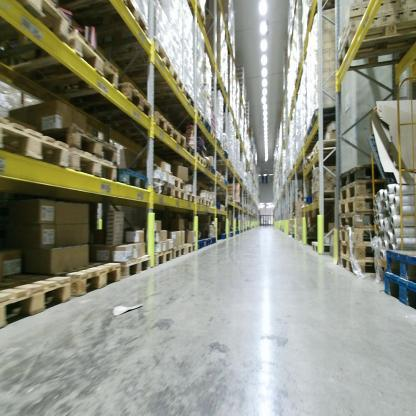pallets: (0, 237, 218, 335), (17, 0, 120, 88), (0, 116, 126, 183), (122, 0, 197, 104), (331, 162, 381, 287), (113, 71, 191, 147), (382, 239, 416, 319), (151, 177, 215, 207), (114, 165, 154, 193)
